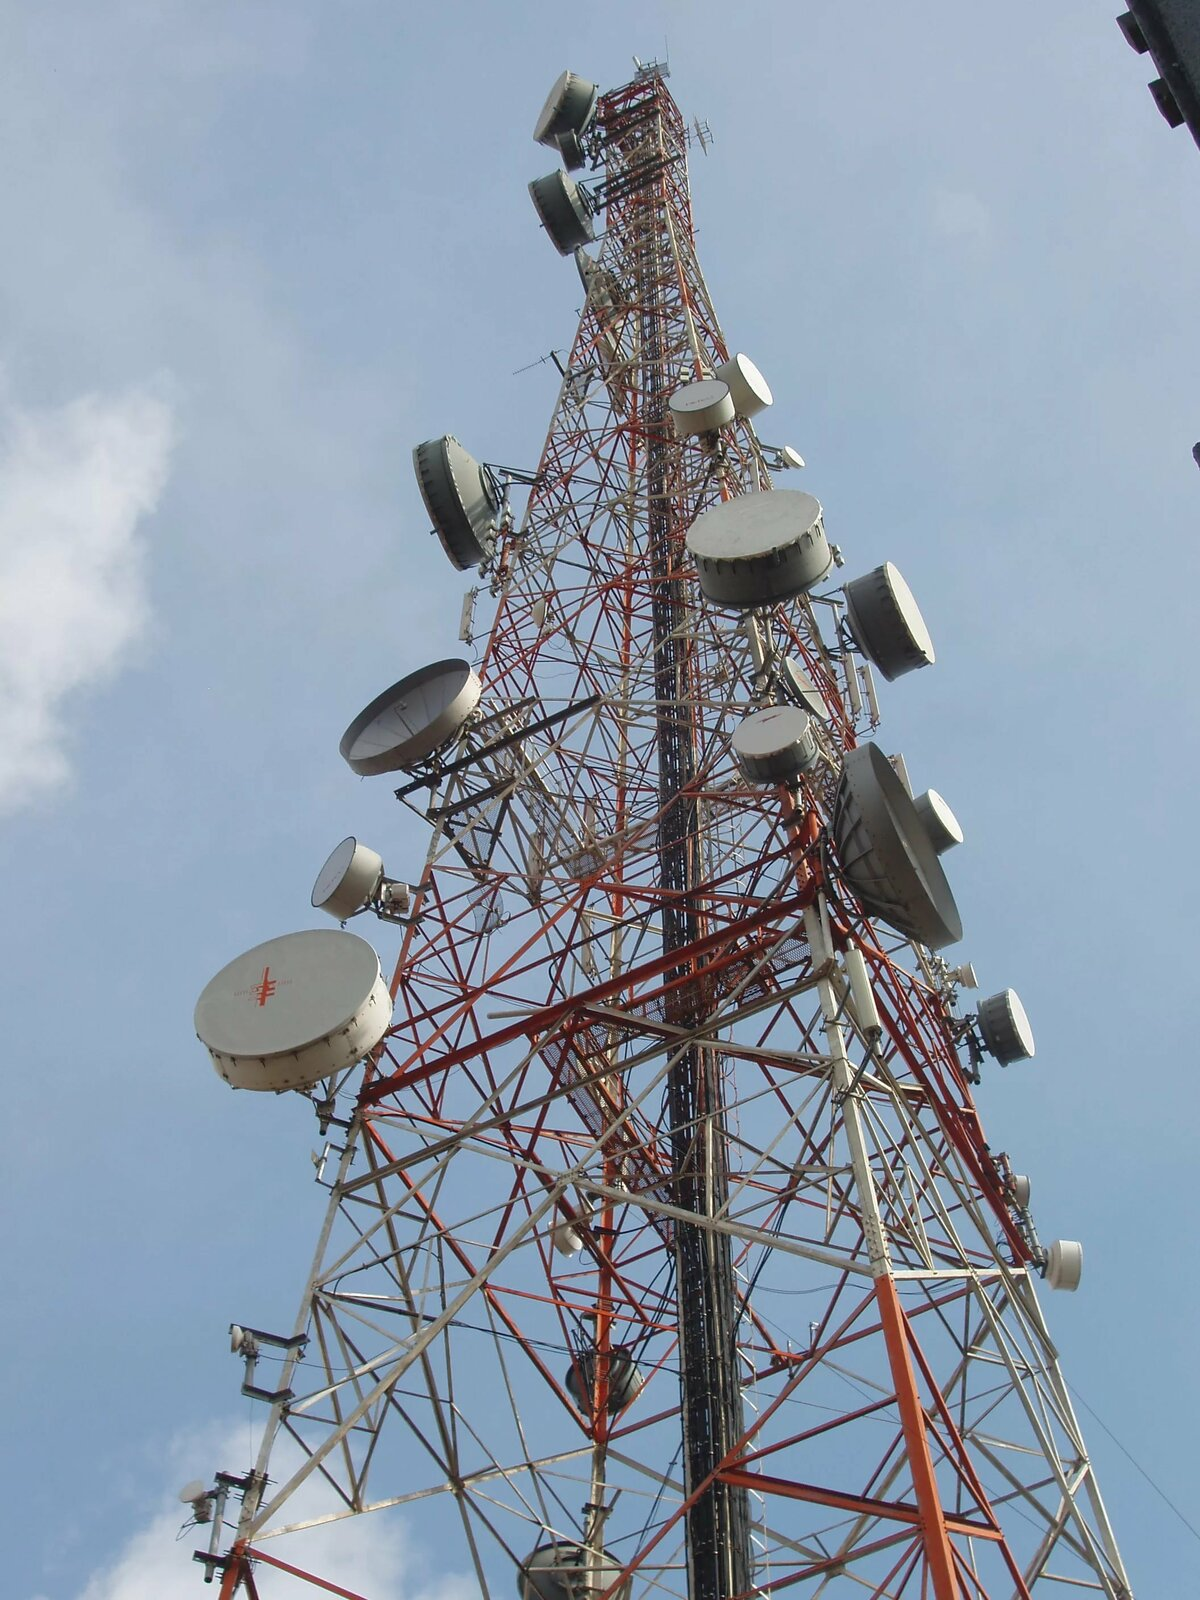b: (197, 930, 384, 1089), (687, 490, 834, 606), (852, 569, 932, 680), (977, 986, 1047, 1068), (727, 711, 812, 779), (527, 168, 594, 253), (314, 840, 381, 911), (667, 378, 731, 440), (531, 76, 589, 140), (727, 362, 771, 414)
